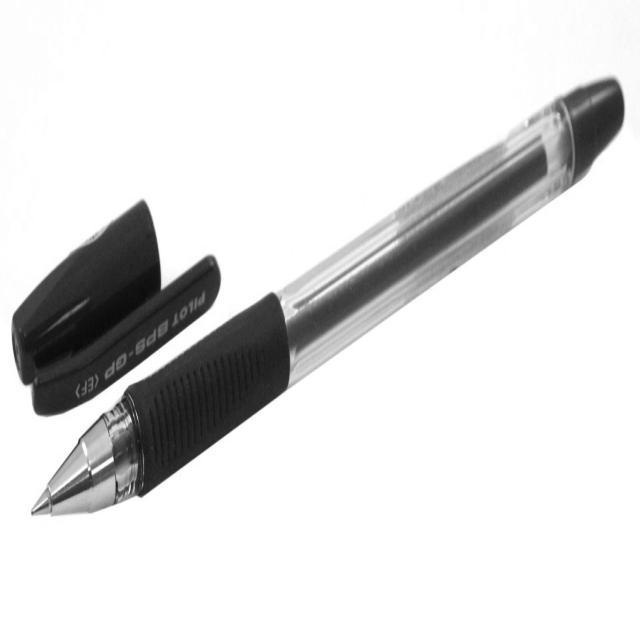pencil: (18, 71, 528, 533)
